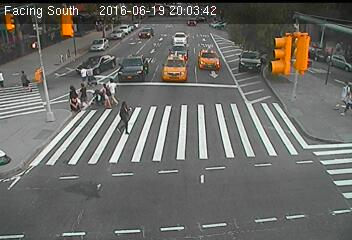neg: (217, 106, 241, 138), (242, 169, 263, 198), (162, 72, 181, 97), (65, 18, 83, 42), (88, 30, 106, 54), (152, 166, 169, 189), (251, 55, 267, 77), (9, 159, 25, 181), (199, 68, 215, 89), (190, 140, 206, 161), (286, 166, 300, 185), (9, 115, 23, 133), (169, 24, 182, 41), (43, 13, 55, 29), (58, 139, 70, 154), (40, 109, 51, 124), (107, 133, 116, 146), (139, 31, 148, 43), (231, 21, 240, 33), (199, 27, 207, 36), (104, 198, 110, 206)
pos: (111, 99, 138, 136), (331, 76, 351, 114), (100, 75, 122, 103), (61, 93, 83, 121), (71, 81, 91, 109), (93, 80, 113, 107), (14, 66, 33, 91), (73, 63, 89, 85), (81, 62, 96, 82), (61, 82, 76, 101)
